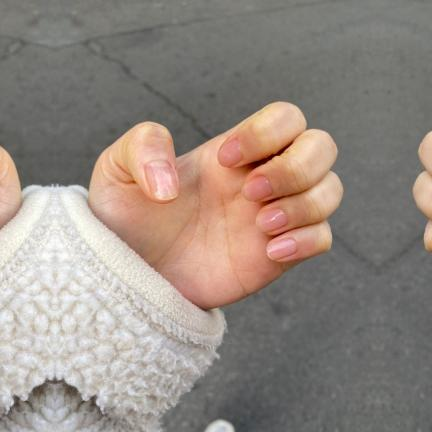Nail: (144, 159, 178, 201), (242, 176, 273, 201), (256, 208, 287, 232), (217, 138, 242, 167), (266, 237, 297, 260)
